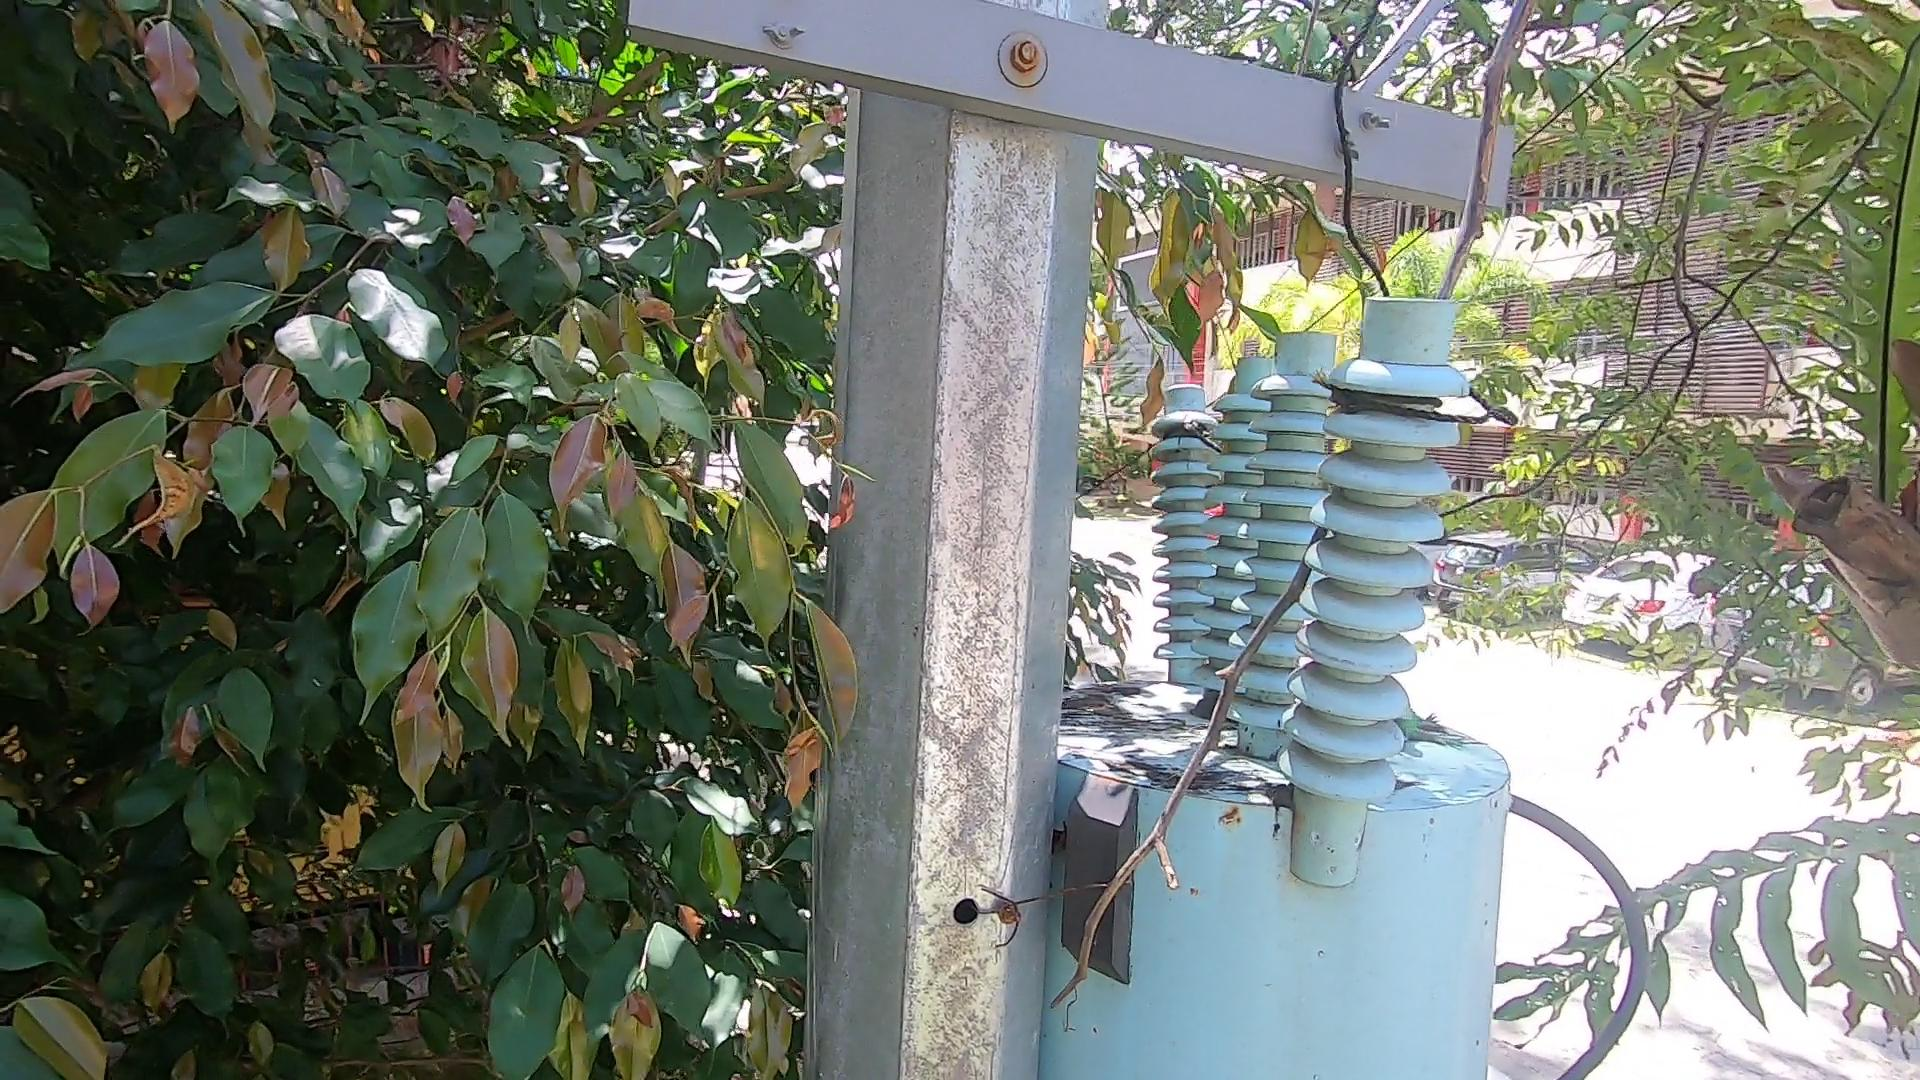branch with leaves: (1083, 219, 1386, 414)
leaf: (1062, 684, 1135, 735), (1255, 764, 1317, 816), (1183, 680, 1233, 728)
tree branch: (940, 7, 1611, 1036)
